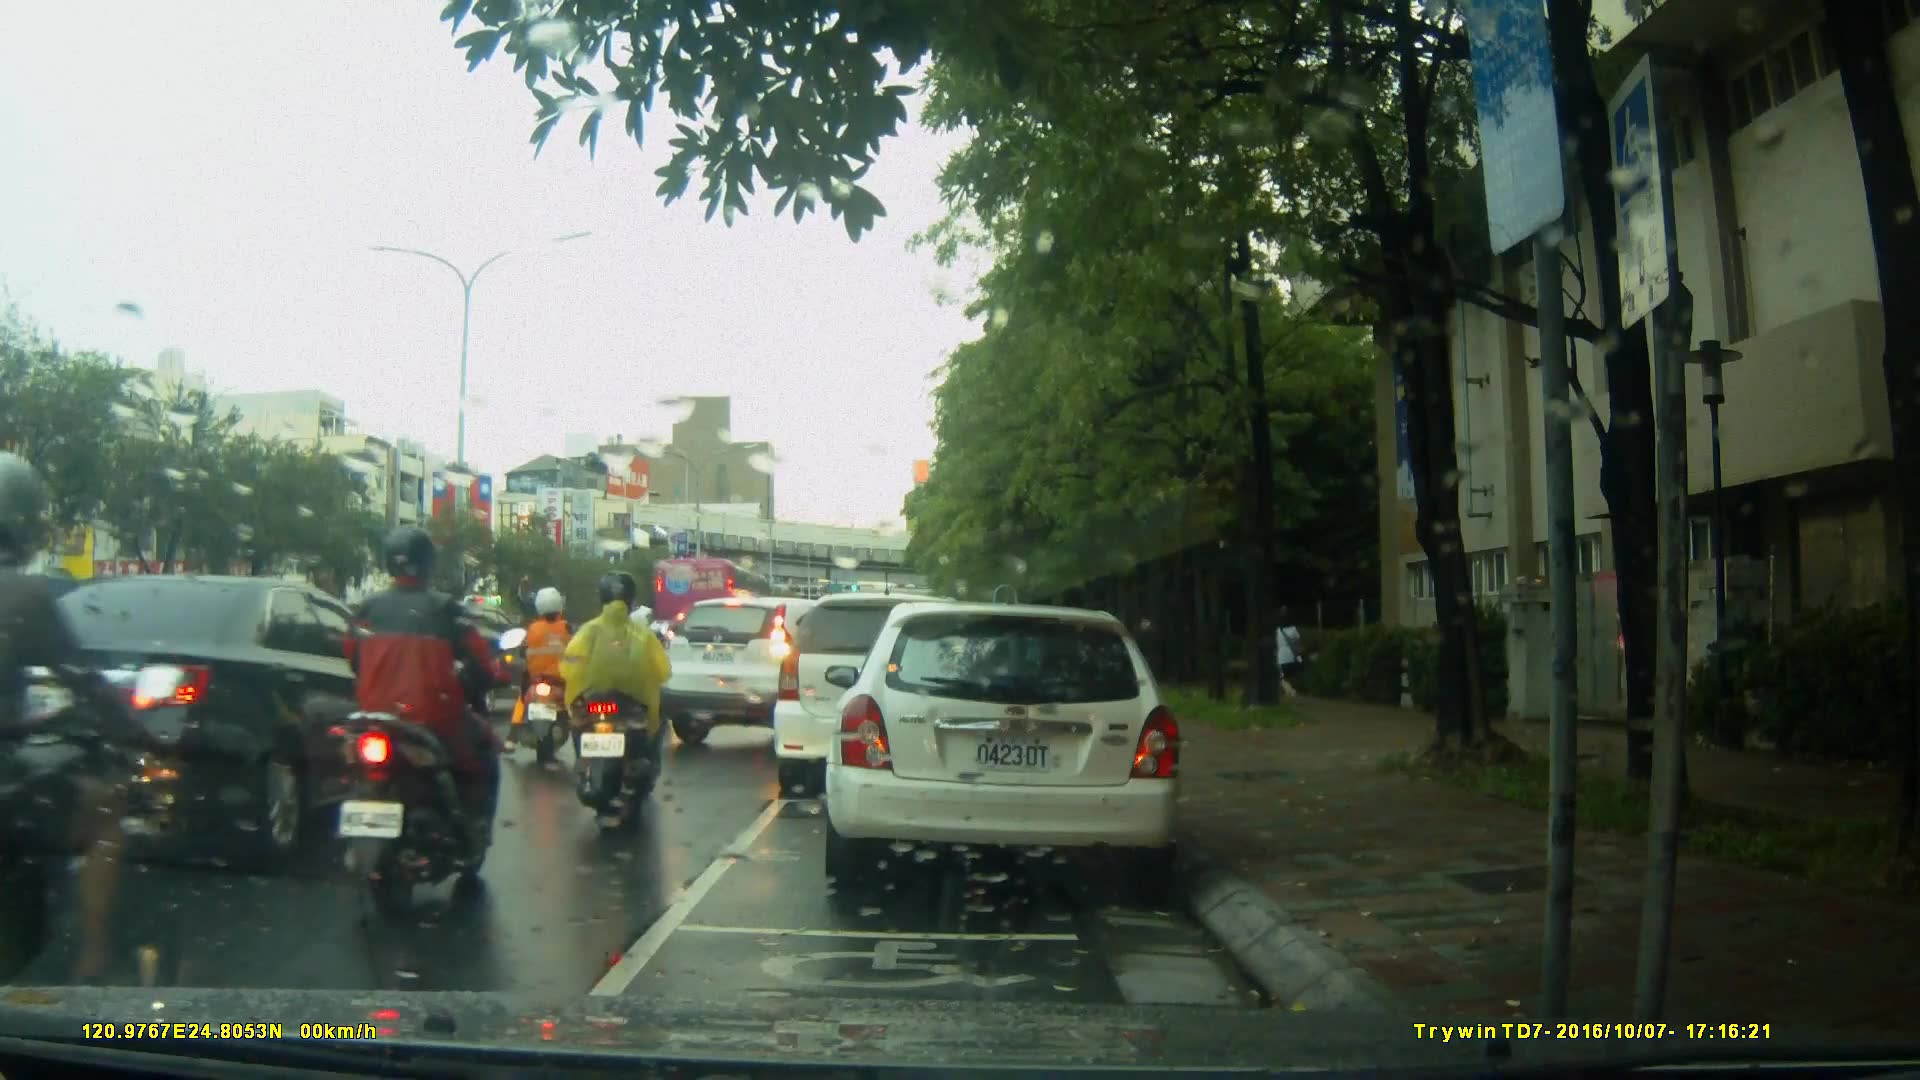pedestrian: (1260, 605, 1304, 718)
rider: (1, 445, 200, 1015), (335, 527, 534, 920), (559, 579, 675, 828), (574, 580, 661, 793), (517, 588, 584, 767)
vehicle: (1, 571, 462, 865), (835, 594, 1194, 898), (776, 590, 1026, 784), (657, 591, 902, 753), (652, 556, 774, 641)
